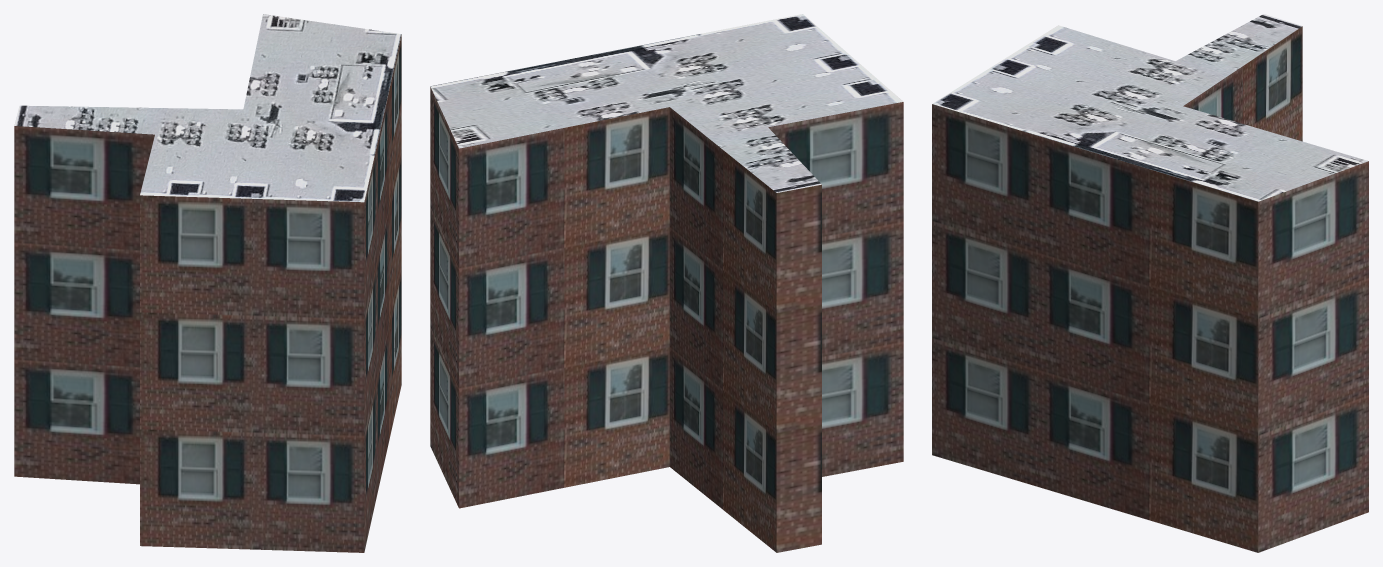
The model's file is ResTex__5132.fbx.
3 renders of one model, left to right at view 1: azimuth 30°, elevation 25°; view 2: azimuth 150°, elevation 25°; view 3: azimuth 270°, elevation 25°, orthographic. The views are drawn at different scales.
Parts seen in each view (by area): view 1: CityEngineMaterial_14_m, CityEngineMaterial_m; view 2: CityEngineMaterial_14_m, CityEngineMaterial_m; view 3: CityEngineMaterial_14_m, CityEngineMaterial_m.
Boxes of the visible parts, <box> form: CityEngineMaterial_14_m: <box>14,35,401,552</box>; CityEngineMaterial_m: <box>14,14,401,202</box>; CityEngineMaterial_14_m: <box>430,87,903,552</box>; CityEngineMaterial_m: <box>430,14,903,192</box>; CityEngineMaterial_14_m: <box>932,26,1368,552</box>; CityEngineMaterial_m: <box>932,14,1368,201</box>.
Bounding box in the file's own units: 10.33 × 9 × 10.15.
2 materials, 2 textured.
